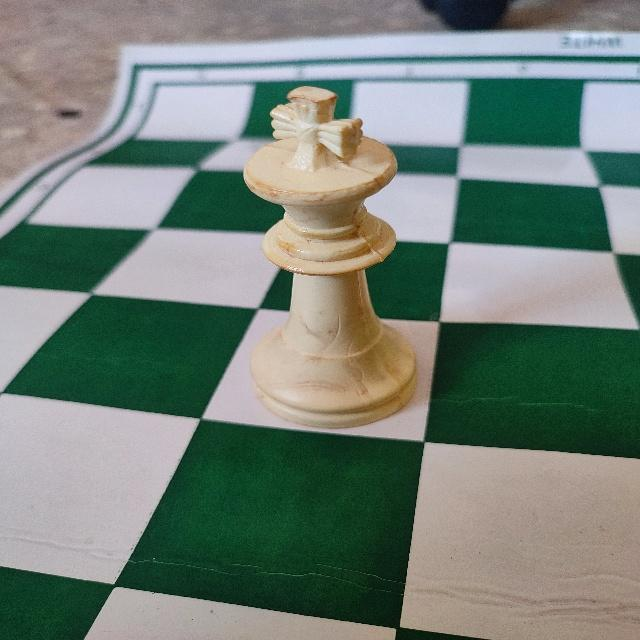King: (238, 84, 421, 432)
